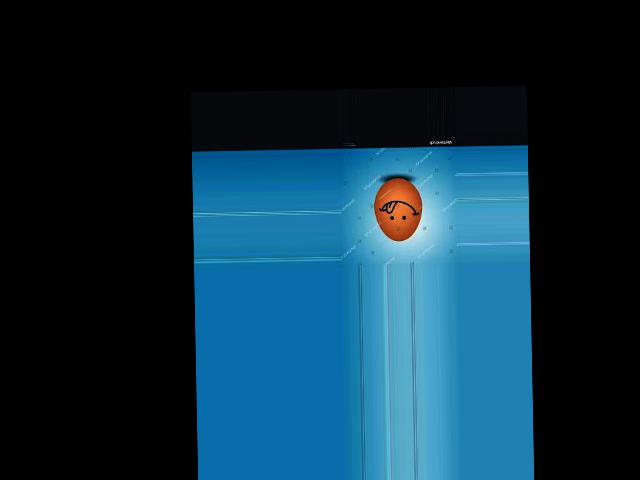egg: (373, 177, 422, 241)
